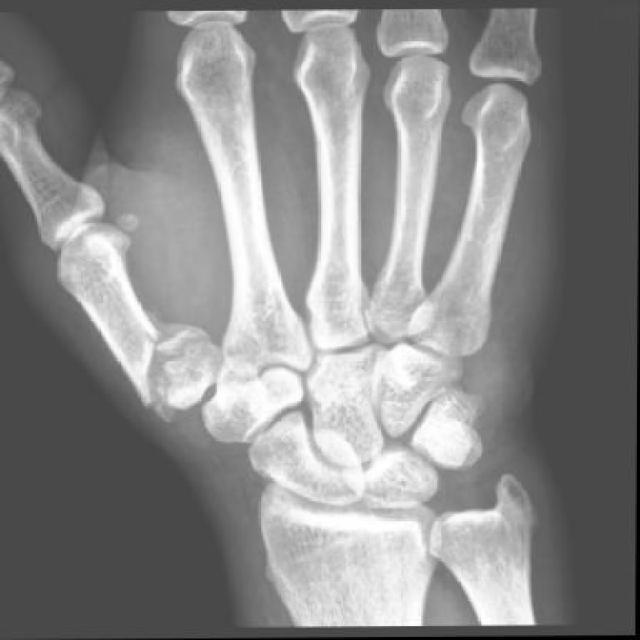Fracture: (128, 311, 217, 419)
